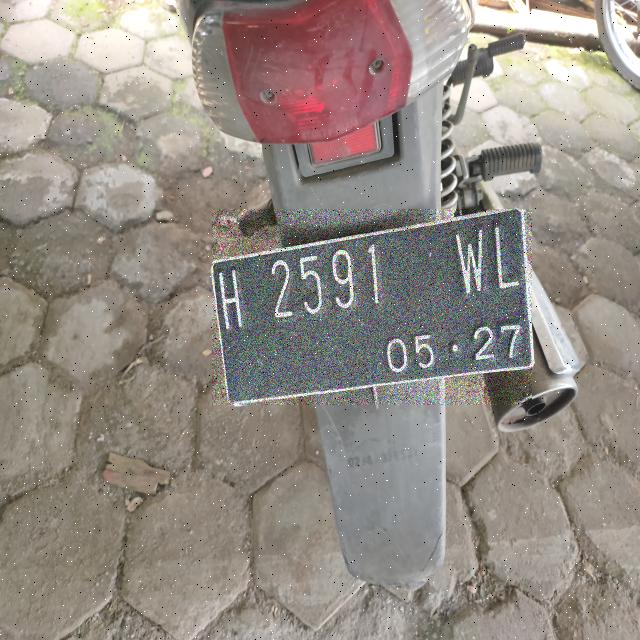plate: (212, 210, 532, 406)
